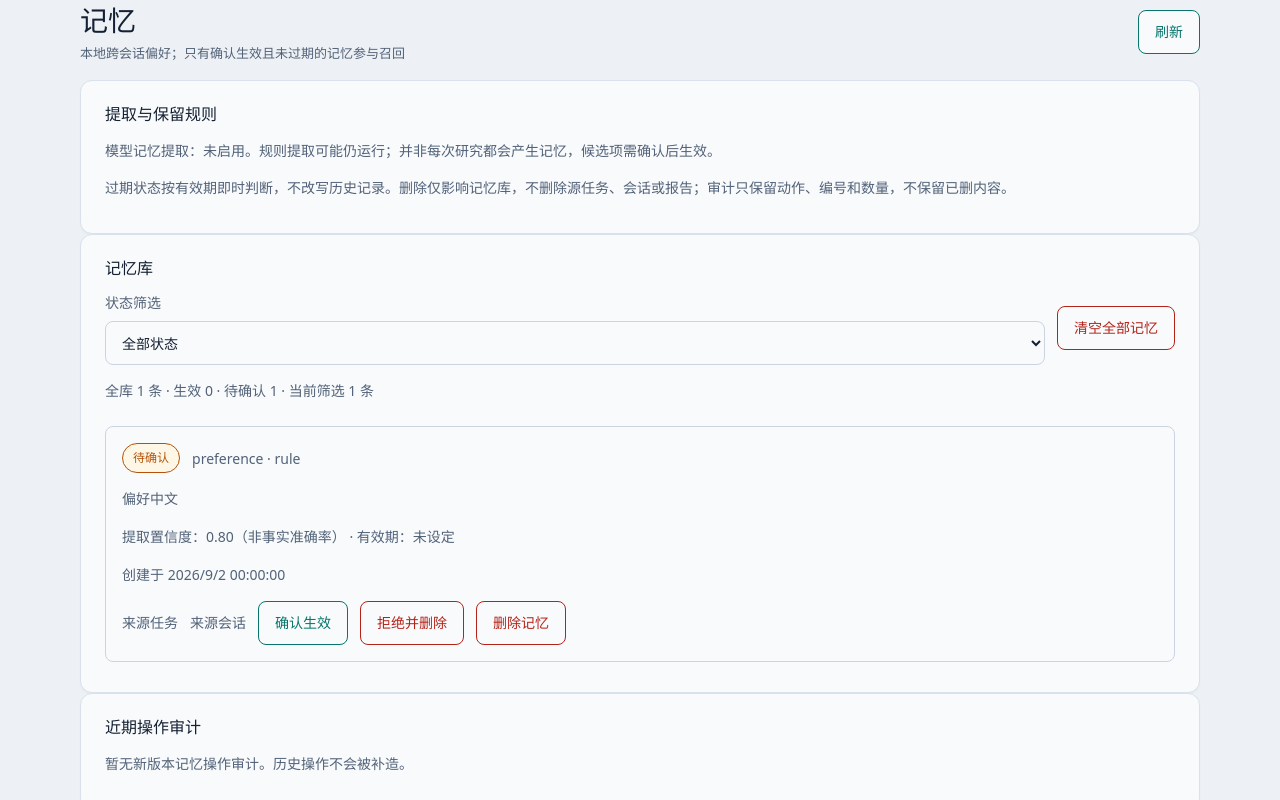
Test: cancel never deletes; a failed delete stays visible without automatic retry
The width and height of the screenshot is (1280, 800).
Click the button "删除记忆" at (521, 623), box [476,601,566,645]
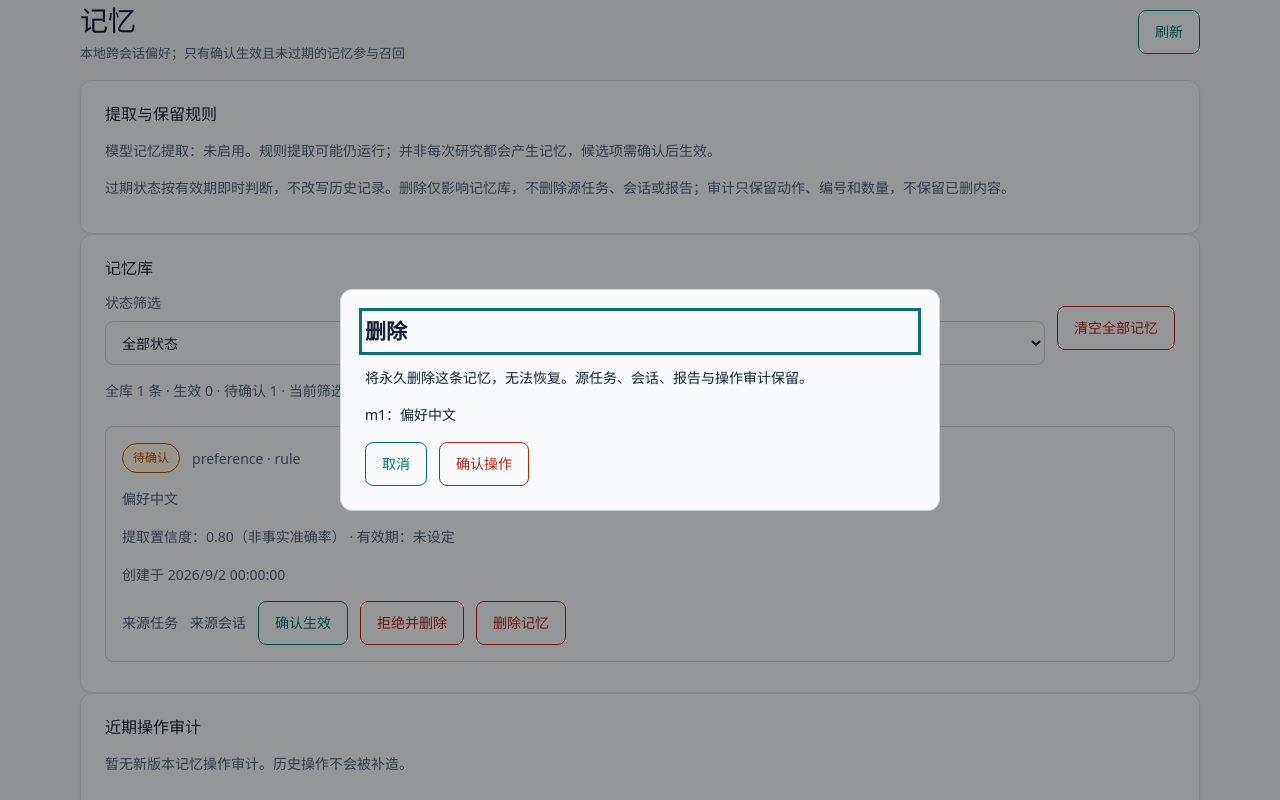
Click the button "取消" at (396, 464), box [365,442,427,486]
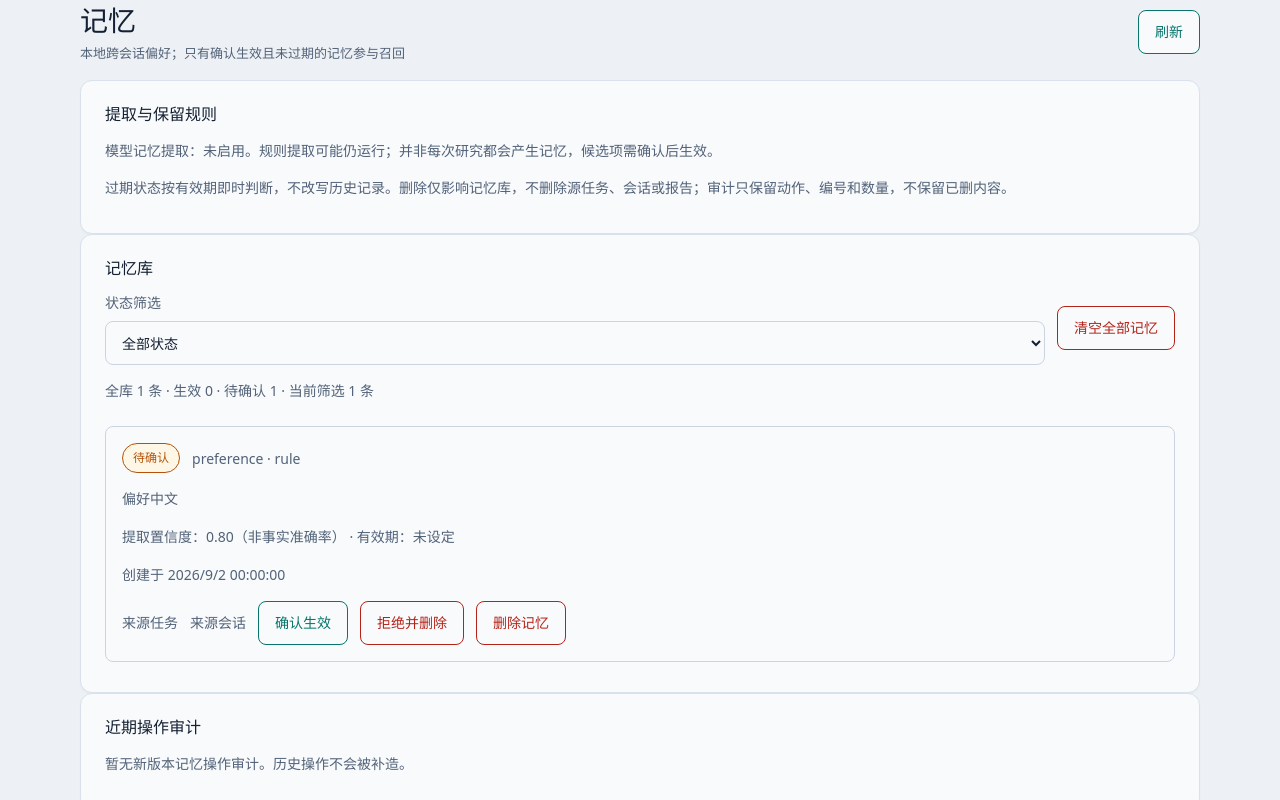
Click the button "删除记忆" at (521, 623), box [476,601,566,645]
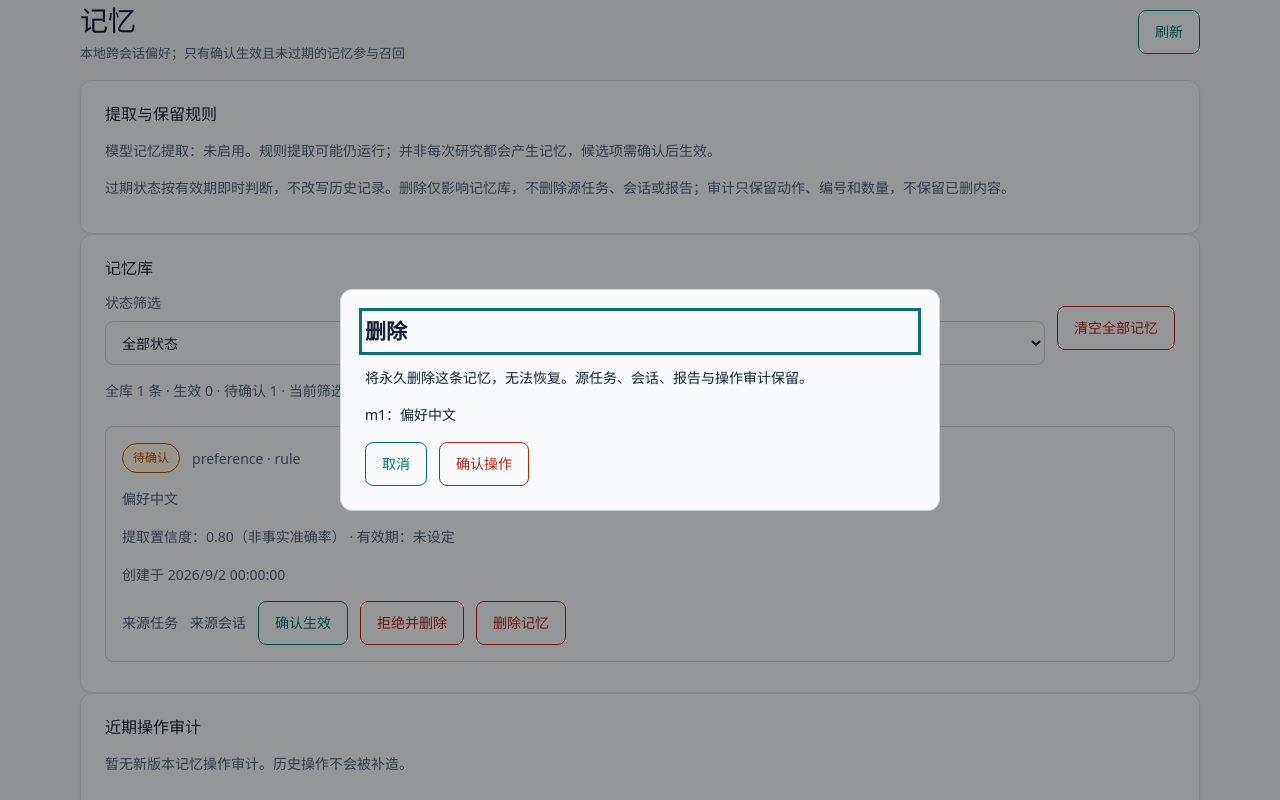
Click the button "确认操作" at (484, 464), box [439,442,529,486]
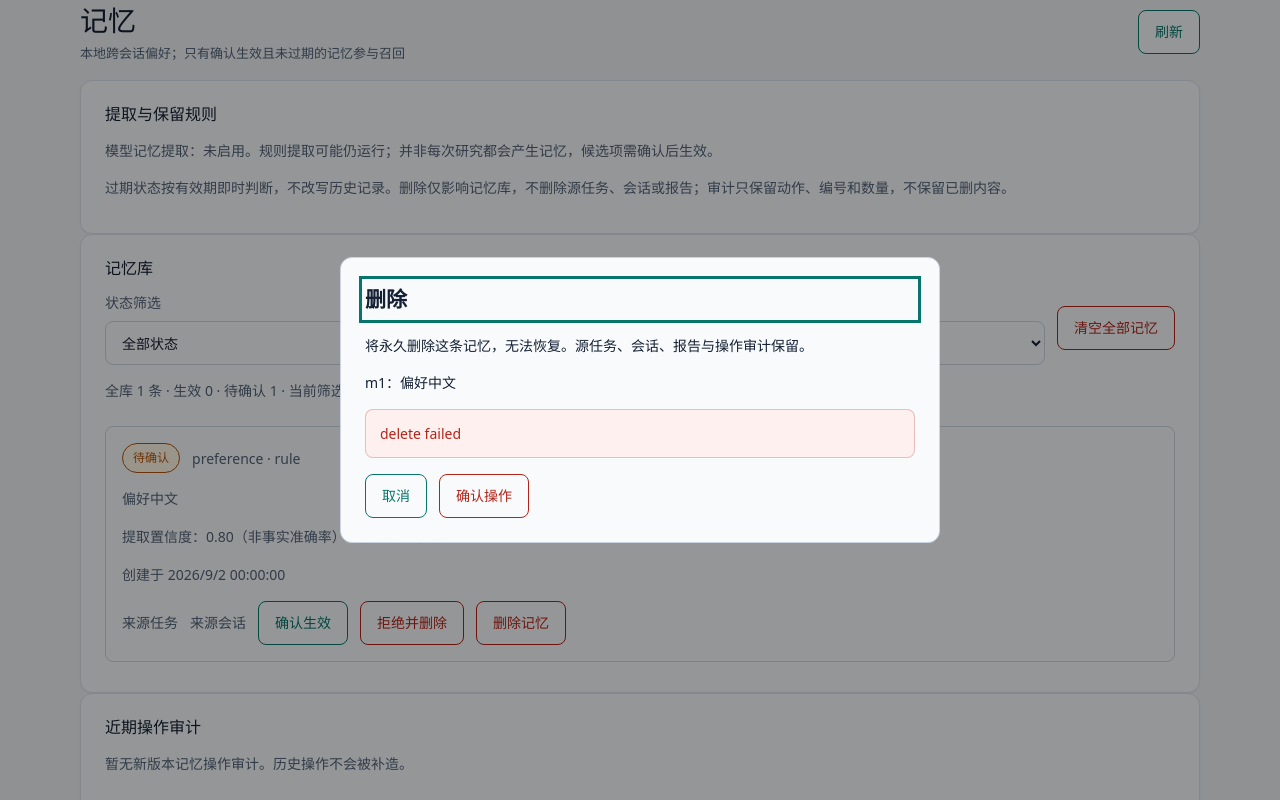
Check: the text "偏好中文" is shown, box [122,489,178,508]
Check: the text "delete failed" is shown, box [365,409,915,458]
